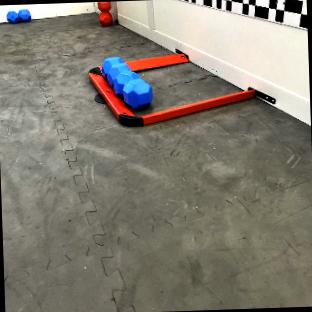Parking-R: (88, 68, 255, 126)
V5_BLUE: (101, 58, 153, 108), (7, 10, 32, 24), (19, 10, 31, 22), (7, 11, 18, 24)
V5_RED: (98, 2, 112, 25)
